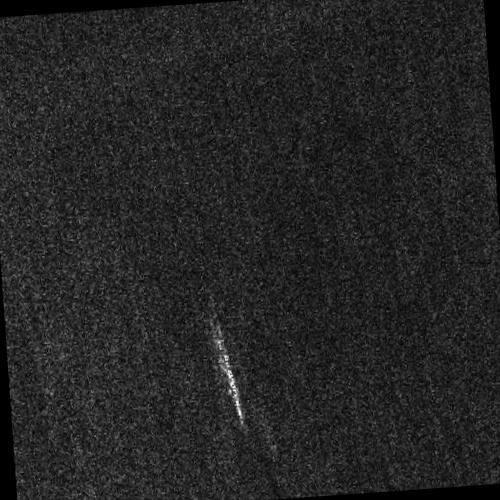ship: (217, 339, 243, 426)
